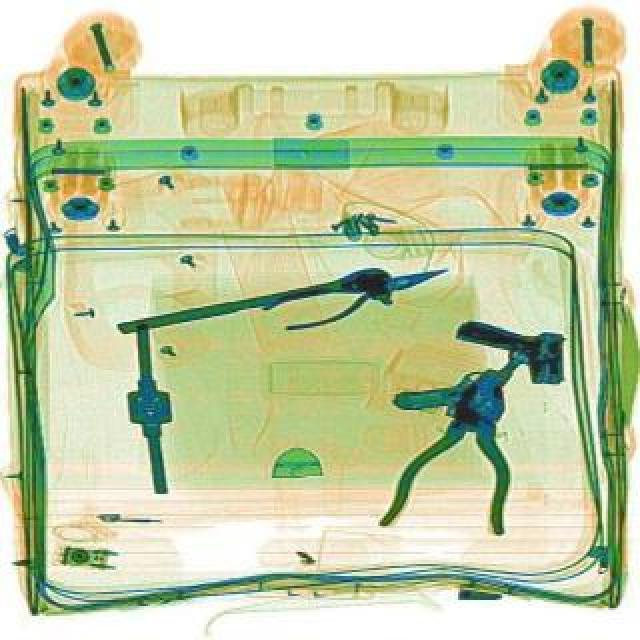gun: (388, 308, 530, 444), (444, 316, 570, 386)
wrench: (376, 354, 550, 558), (258, 250, 450, 338)
